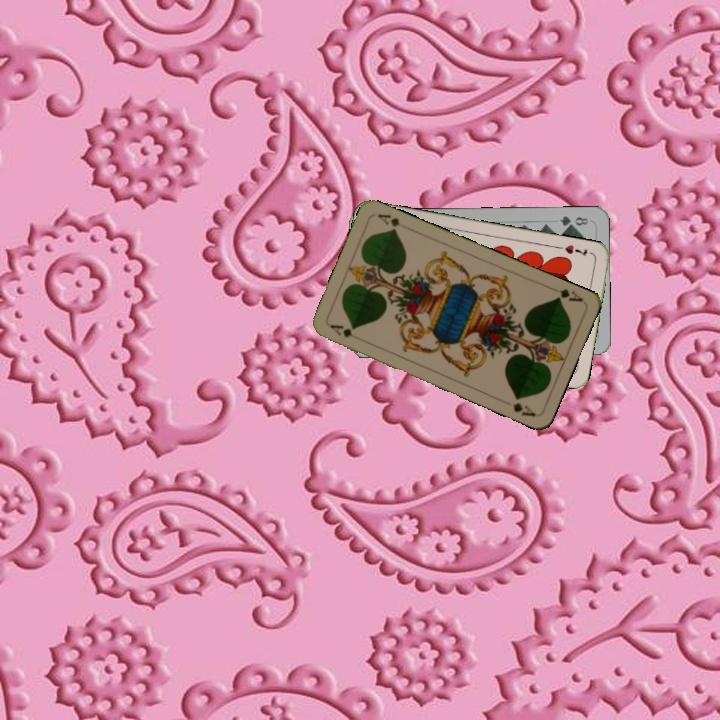G8: (556, 212, 591, 229)
GA: (546, 283, 586, 305), (326, 320, 356, 340)
H7: (561, 241, 590, 259)
